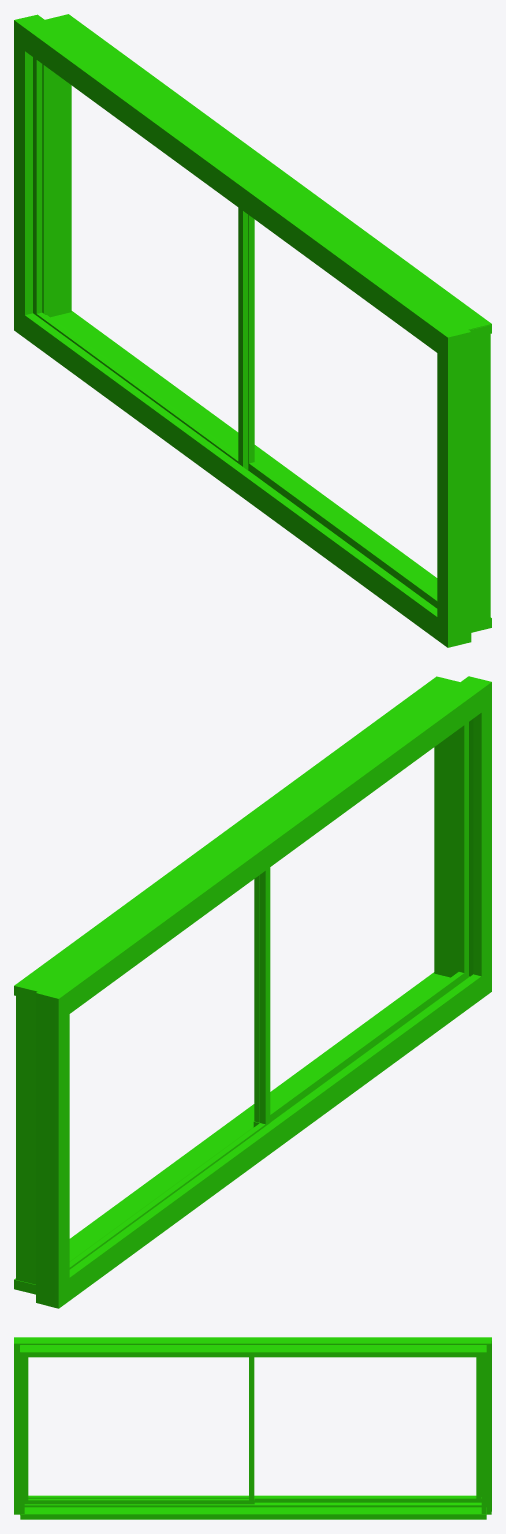
Rendered from Window_C_04_Lod0.fbx.
The picture shows the model from 3 angles, top to bottom: view 1: azimuth 30°, elevation 25°; view 2: azimuth 150°, elevation 25°; view 3: azimuth 270°, elevation 25°; orthographic projection. The views are drawn at different scales.
Parts seen in each view (by area): view 1: Window_C_04_Lod0; view 2: Window_C_04_Lod0; view 3: Window_C_04_Lod0.
Part boxes in pixels (left/top/right/bottom): Window_C_04_Lod0: left=14, top=14, right=491, bottom=647; Window_C_04_Lod0: left=14, top=676, right=491, bottom=1308; Window_C_04_Lod0: left=14, top=1337, right=491, bottom=1519.
Bounding box in the file's own units: 23.29 × 139 × 352.
